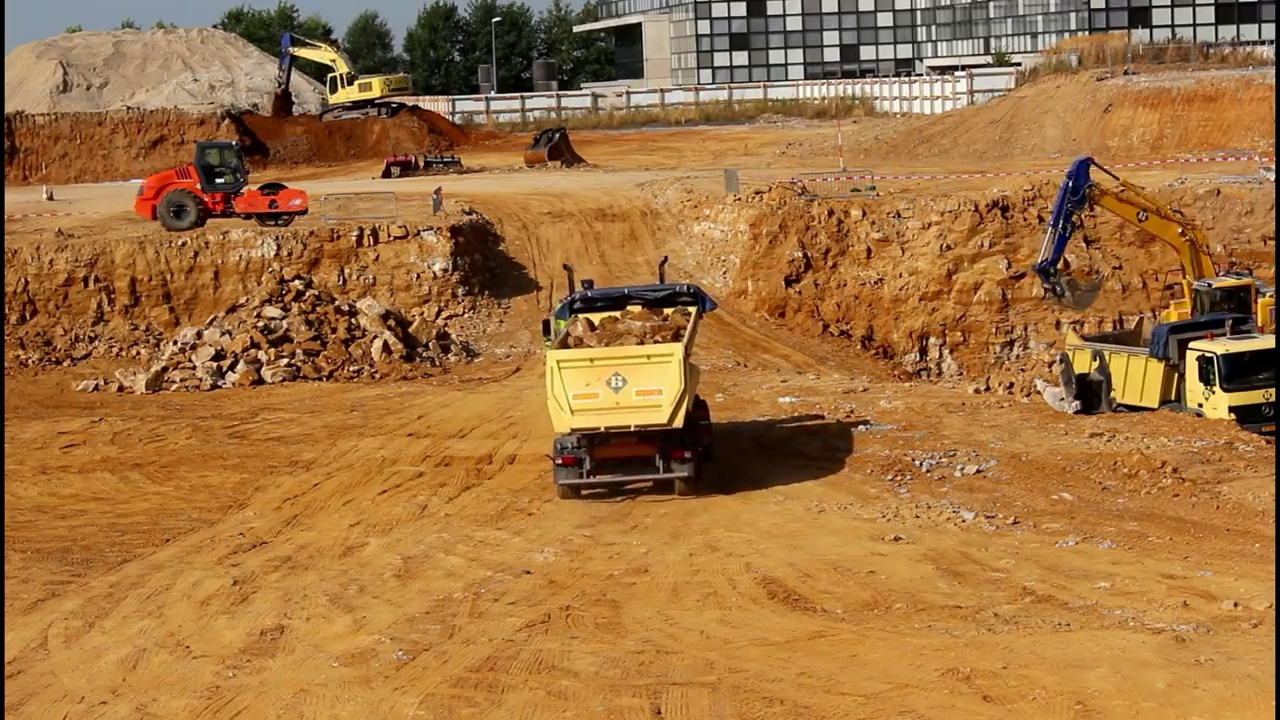compactor: (133, 138, 310, 230)
excavator: (1031, 150, 1280, 388), (267, 24, 417, 128)
truck: (540, 252, 724, 503), (1055, 313, 1280, 459)
